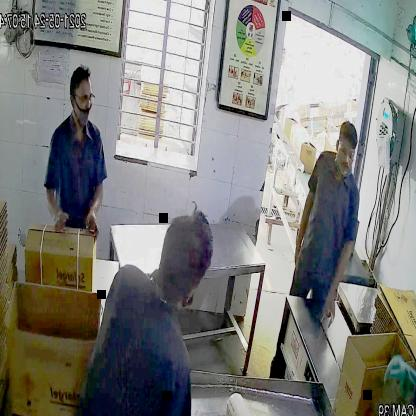goggles: (70, 89, 97, 110), (336, 143, 359, 162)
